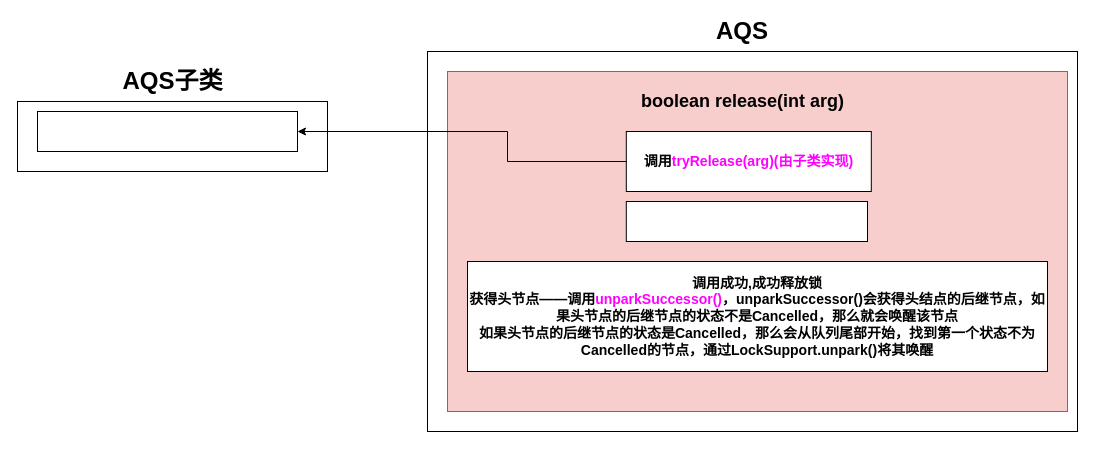
This 1095x449 diagram has some shape labels left out. Each missing label, with the box of its shape:
boolean tryRelease(int arg): (36, 110, 298, 152)
调用失败，返回false: (625, 200, 868, 242)
